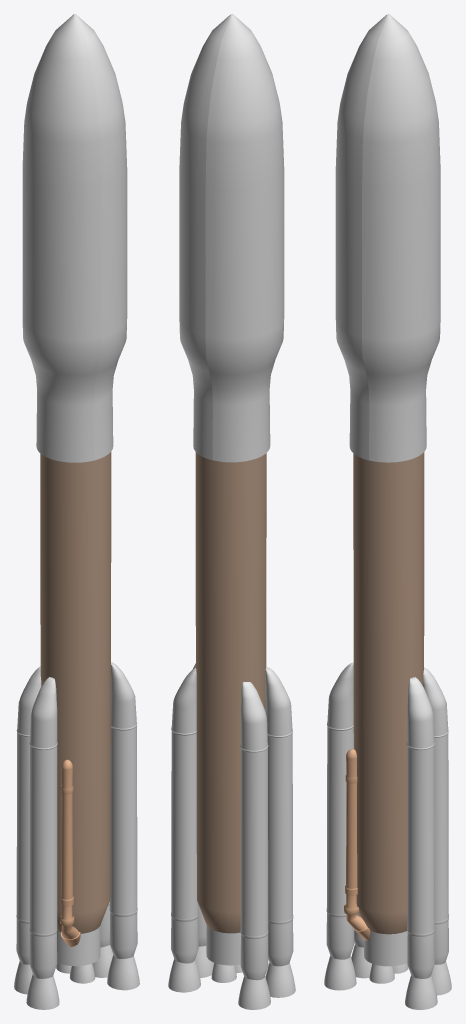
File: Atlas Mars.fbx
3 views of the same model, side by side, from view 1: azimuth 30°, elevation 25°; view 2: azimuth 150°, elevation 25°; view 3: azimuth 330°, elevation 25° (orthographic).
Parts seen in each view (by area): view 1: Rocket_Shell_Geo_01, Stage_02_Rocket_Base_Geo, Rocket_Shell_Geo_02, Rocker_Booster_Geo_01, Rocker_Booster_Geo_02, Rocker_Booster_Geo_03, Stage_02_Part_Geo_01, Stage_02_Engine_Part_Geo, Booster_Engine_Geo3, Booster_Engine_Geo2, Booster_Engine_Geo1, Stage_02_Part_Geo_02 (+3 smaller); view 2: Rocket_Shell_Geo_01, Stage_02_Rocket_Base_Geo, Rocket_Shell_Geo_02, Rocker_Booster_Geo_03, Rocker_Booster_Geo_04, Rocker_Booster_Geo_01, Stage_02_Engine_Part_Geo, Booster_Engine_Geo4, Booster_Engine_Geo1, Booster_Engine_Geo3, Stage_02_Engine_Geo_02, Booster_Engine_Geo2; view 3: Rocket_Shell_Geo_02, Stage_02_Rocket_Base_Geo, Rocket_Shell_Geo_01, Rocker_Booster_Geo_02, Rocker_Booster_Geo_01, Rocker_Booster_Geo_04, Stage_02_Part_Geo_01, Stage_02_Engine_Part_Geo, Booster_Engine_Geo2, Booster_Engine_Geo3, Booster_Engine_Geo1, Stage_02_Part_Geo_02 (+2 smaller).
Boxes of the visible parts, x1=… form: Rocket_Shell_Geo_01: x1=22, y1=14, x2=101, y2=462; Stage_02_Rocket_Base_Geo: x1=40, y1=452, x2=111, y2=933; Rocket_Shell_Geo_02: x1=73, y1=14, x2=127, y2=460; Rocker_Booster_Geo_01: x1=29, y1=677, x2=57, y2=978; Rocker_Booster_Geo_02: x1=109, y1=662, x2=137, y2=958; Rocker_Booster_Geo_03: x1=16, y1=666, x2=41, y2=964; Stage_02_Part_Geo_01: x1=60, y1=759, x2=73, y2=906; Stage_02_Engine_Part_Geo: x1=57, y1=926, x2=100, y2=966; Booster_Engine_Geo3: x1=26, y1=974, x2=59, y2=1009; Booster_Engine_Geo2: x1=107, y1=955, x2=139, y2=990; Booster_Engine_Geo1: x1=92, y1=945, x2=113, y2=977; Stage_02_Part_Geo_02: x1=60, y1=905, x2=78, y2=939; Rocket_Shell_Geo_01: x1=205, y1=14, x2=284, y2=462; Stage_02_Rocket_Base_Geo: x1=195, y1=452, x2=266, y2=933; Rocket_Shell_Geo_02: x1=179, y1=14, x2=231, y2=460; Rocker_Booster_Geo_03: x1=240, y1=682, x2=268, y2=980; Rocker_Booster_Geo_04: x1=171, y1=668, x2=198, y2=963; Rocker_Booster_Geo_01: x1=265, y1=667, x2=293, y2=966; Stage_02_Engine_Part_Geo: x1=206, y1=925, x2=240, y2=965; Booster_Engine_Geo4: x1=238, y1=976, x2=270, y2=1009; Booster_Engine_Geo1: x1=168, y1=959, x2=200, y2=992; Booster_Engine_Geo3: x1=265, y1=963, x2=295, y2=997; Stage_02_Engine_Geo_02: x1=211, y1=963, x2=236, y2=982; Booster_Engine_Geo2: x1=195, y1=946, x2=214, y2=977; Rocket_Shell_Geo_02: x1=362, y1=14, x2=440, y2=462; Stage_02_Rocket_Base_Geo: x1=353, y1=452, x2=424, y2=934; Rocket_Shell_Geo_01: x1=335, y1=14, x2=388, y2=460; Rocker_Booster_Geo_02: x1=407, y1=677, x2=435, y2=978; Rocker_Booster_Geo_01: x1=326, y1=662, x2=354, y2=959; Rocker_Booster_Geo_04: x1=423, y1=667, x2=448, y2=964; Stage_02_Part_Geo_01: x1=345, y1=749, x2=357, y2=895; Stage_02_Engine_Part_Geo: x1=364, y1=931, x2=407, y2=966; Booster_Engine_Geo2: x1=405, y1=975, x2=437, y2=1009; Booster_Engine_Geo3: x1=324, y1=956, x2=356, y2=990; Booster_Engine_Geo1: x1=431, y1=961, x2=451, y2=995; Stage_02_Part_Geo_02: x1=344, y1=894, x2=367, y2=930.
Bounding box in the file's own units: 1.83 × 15.69 × 1.54.
